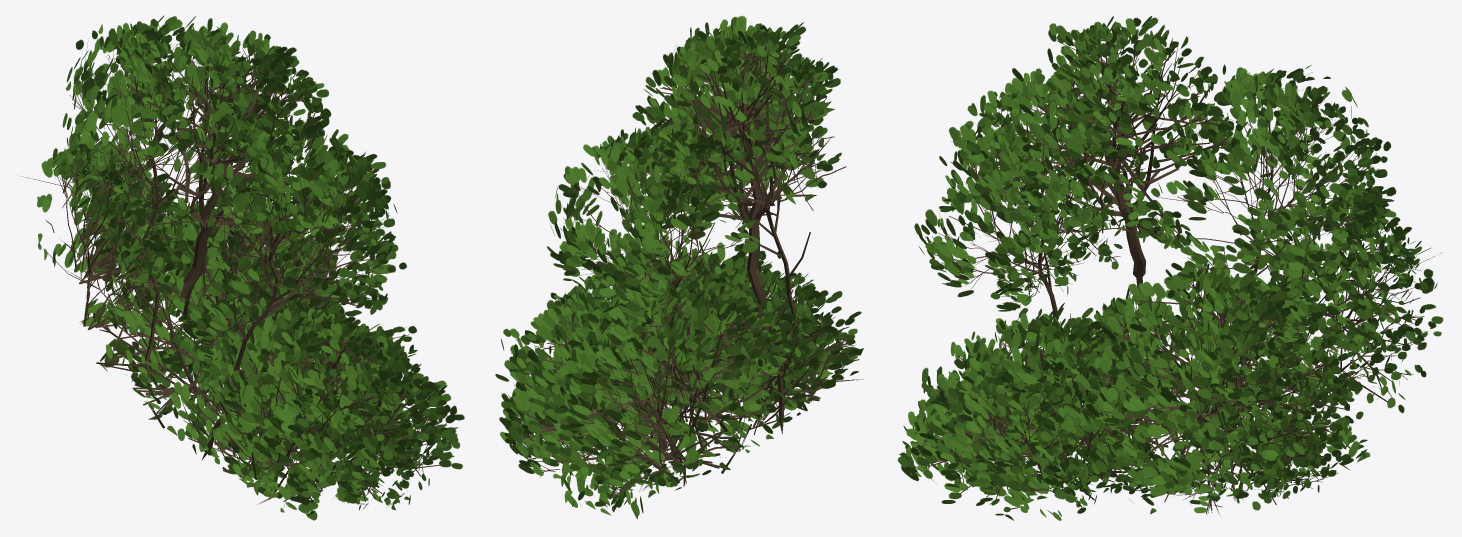
3 renders of one model, left to right at view 1: azimuth 30°, elevation 25°; view 2: azimuth 150°, elevation 25°; view 3: azimuth 270°, elevation 25°, orthographic.
Visible parts, largest first — view 1: oak 01.001_trunk_Mat.001_0.470; view 2: oak 01.001_trunk_Mat.001_0.470; view 3: oak 01.001_trunk_Mat.001_0.470.
Part boxes in pixels (bbox=[...]): oak 01.001_trunk_Mat.001_0.470: bbox=[21, 15, 464, 520]; oak 01.001_trunk_Mat.001_0.470: bbox=[495, 15, 863, 519]; oak 01.001_trunk_Mat.001_0.470: bbox=[897, 16, 1443, 520].
Size of the model in its own units: 2.31 by 3.98 by 4.56.
Materials: 2 (1 with a texture image).
